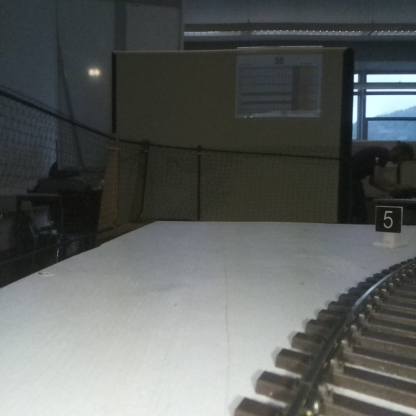black-stop-5: (375, 207, 402, 244)
